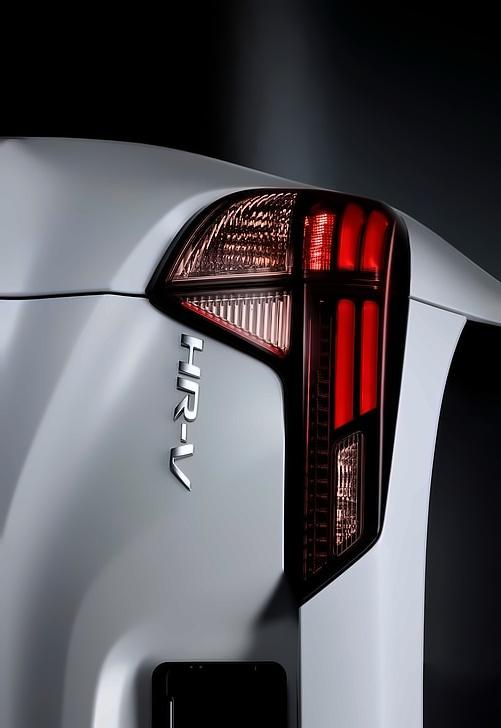Car boot: (0, 285, 501, 728)
Rear bumper: (0, 117, 302, 299)
Rear light - -L-: (129, 172, 424, 616)
